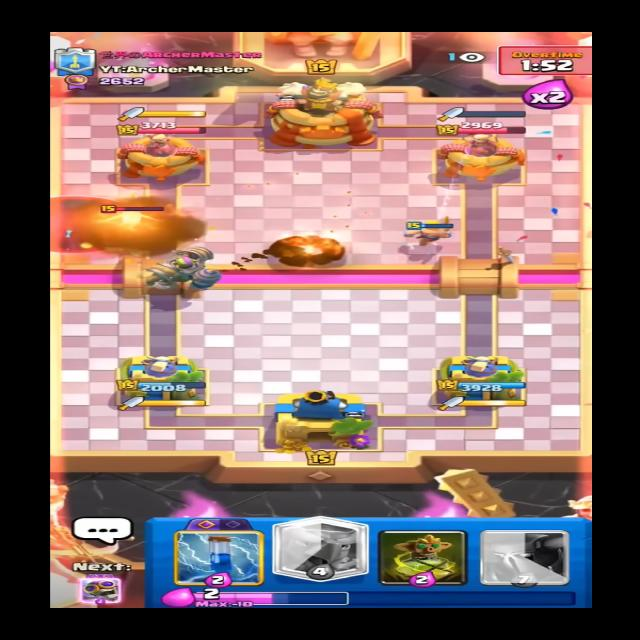x-bow: (86, 206, 175, 246)
